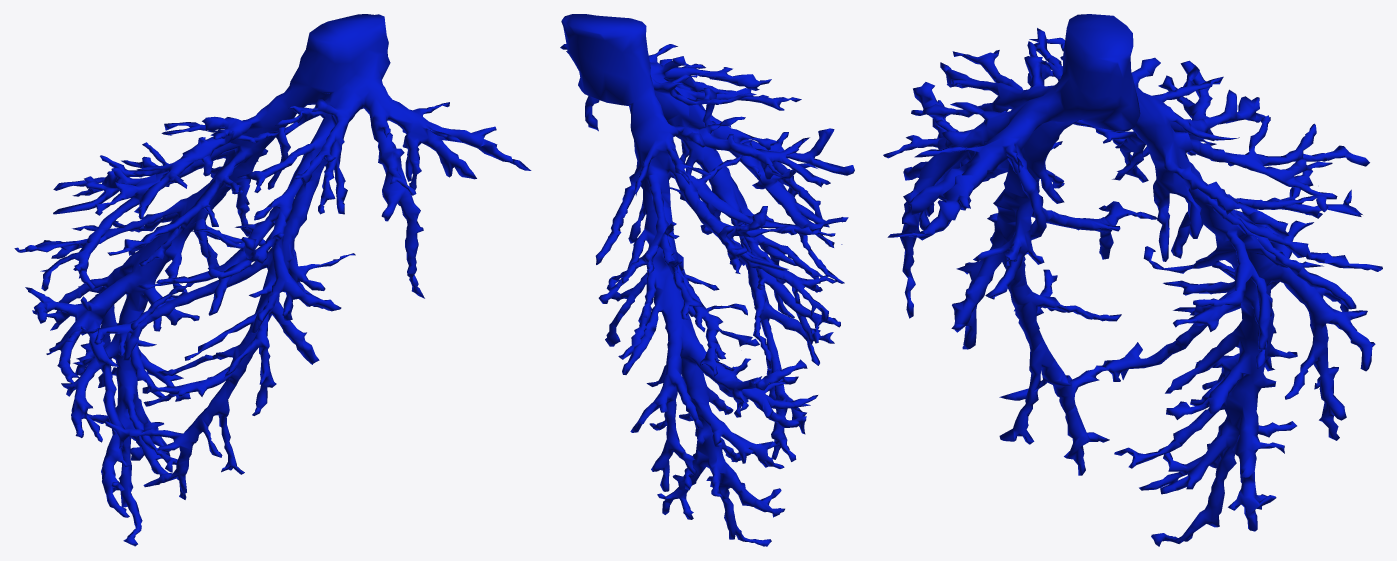
3 views of the same model, side by side, from view 1: azimuth 30°, elevation 25°; view 2: azimuth 150°, elevation 25°; view 3: azimuth 270°, elevation 25° (orthographic). The views are drawn at different scales.
Parts seen in each view (by area): view 1: Polygonal_Model_4_Triangles_0; view 2: Polygonal_Model_4_Triangles_0; view 3: Polygonal_Model_4_Triangles_0.
Boxes of the visible parts, box(x1,y1,x2,y2) form: Polygonal_Model_4_Triangles_0: box(14, 14, 531, 546); Polygonal_Model_4_Triangles_0: box(560, 14, 854, 546); Polygonal_Model_4_Triangles_0: box(883, 14, 1382, 546).
Bounding box in the file's own units: 5.88 × 7.4 × 5.31.
